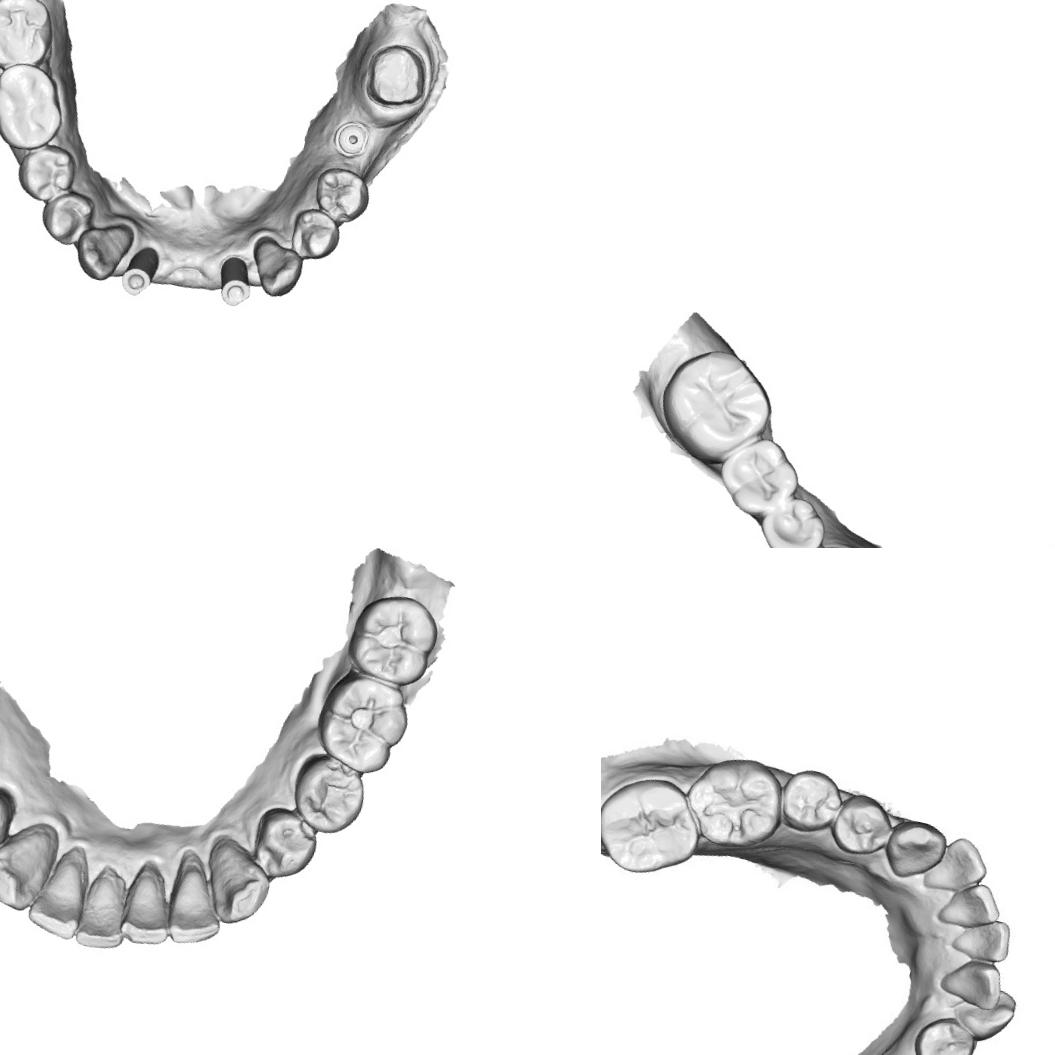canine: (194, 836, 279, 933), (0, 815, 59, 915), (878, 813, 949, 886), (946, 978, 1022, 1044), (244, 232, 310, 304), (70, 215, 136, 287)
crown: (356, 36, 438, 118)
implant: (116, 241, 164, 301), (211, 251, 259, 310), (328, 116, 374, 164)
incisor: (24, 843, 95, 941), (162, 859, 232, 952), (71, 864, 138, 955), (116, 860, 182, 951), (922, 827, 997, 902), (932, 950, 1007, 1013), (942, 907, 1016, 970), (936, 872, 1006, 936)
molar: (650, 338, 782, 470), (674, 742, 794, 859), (601, 765, 708, 886), (314, 668, 413, 779), (344, 584, 441, 690), (713, 430, 806, 524), (0, 56, 75, 159), (0, 0, 62, 79)
premolar: (243, 800, 328, 891), (286, 750, 371, 839), (773, 760, 848, 838), (825, 788, 900, 860), (11, 136, 82, 208), (306, 160, 374, 230), (754, 489, 831, 548), (35, 185, 99, 250), (286, 201, 346, 266), (907, 1009, 983, 1055)
